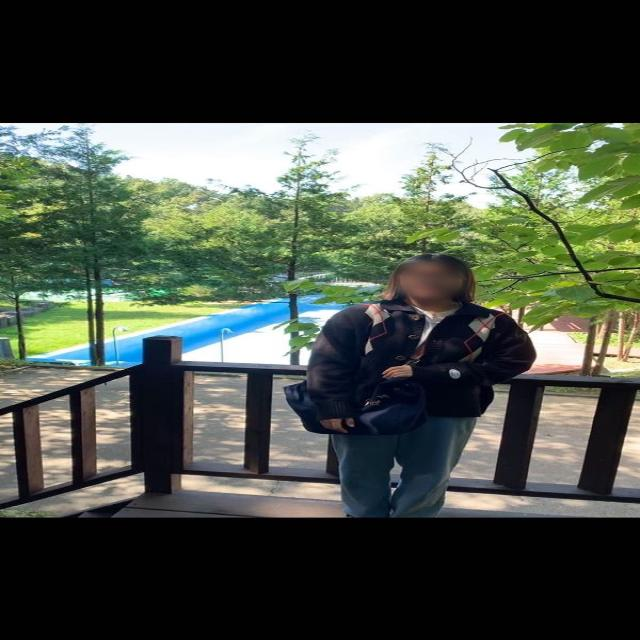cardigan: (303, 298, 533, 421)
denimpants: (331, 397, 482, 515)
